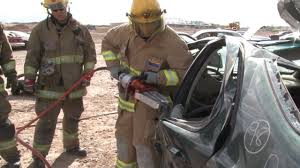emergent: (103, 1, 172, 168), (24, 1, 87, 152)
